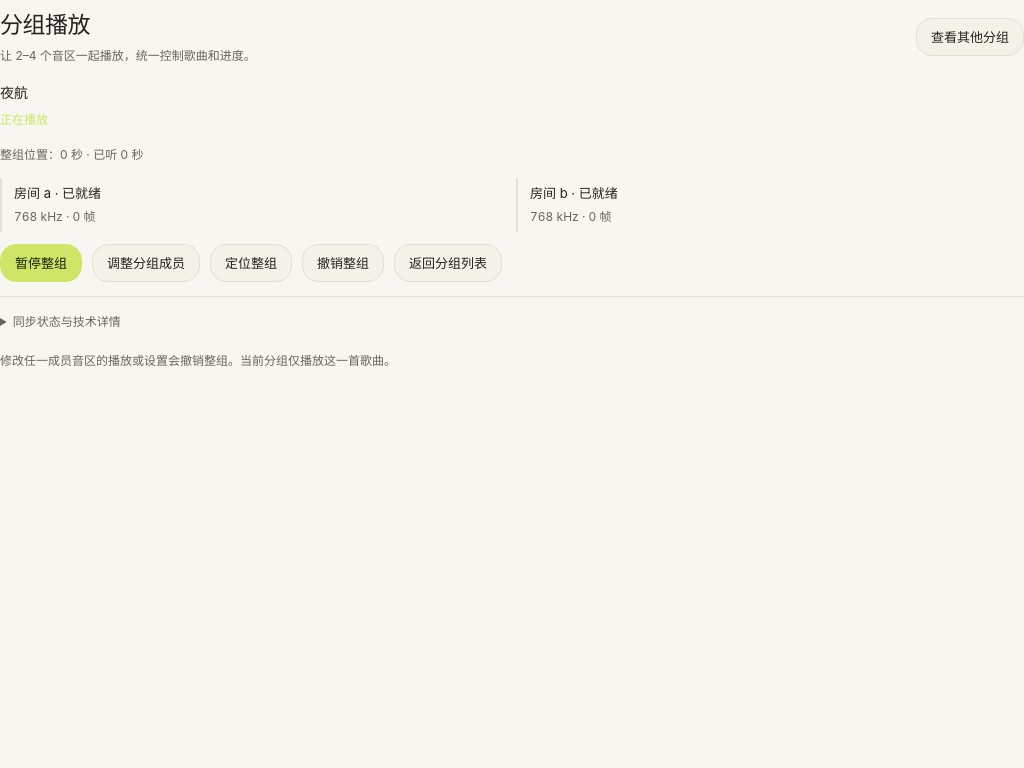
it: 分组播放 › 改组丢失响应后重载只查询，重试保留 UUID 与原成员
Later steps or results of the test are not shown.
Click the button "调整分组成员" at (146, 263), box [92,244,200,282]
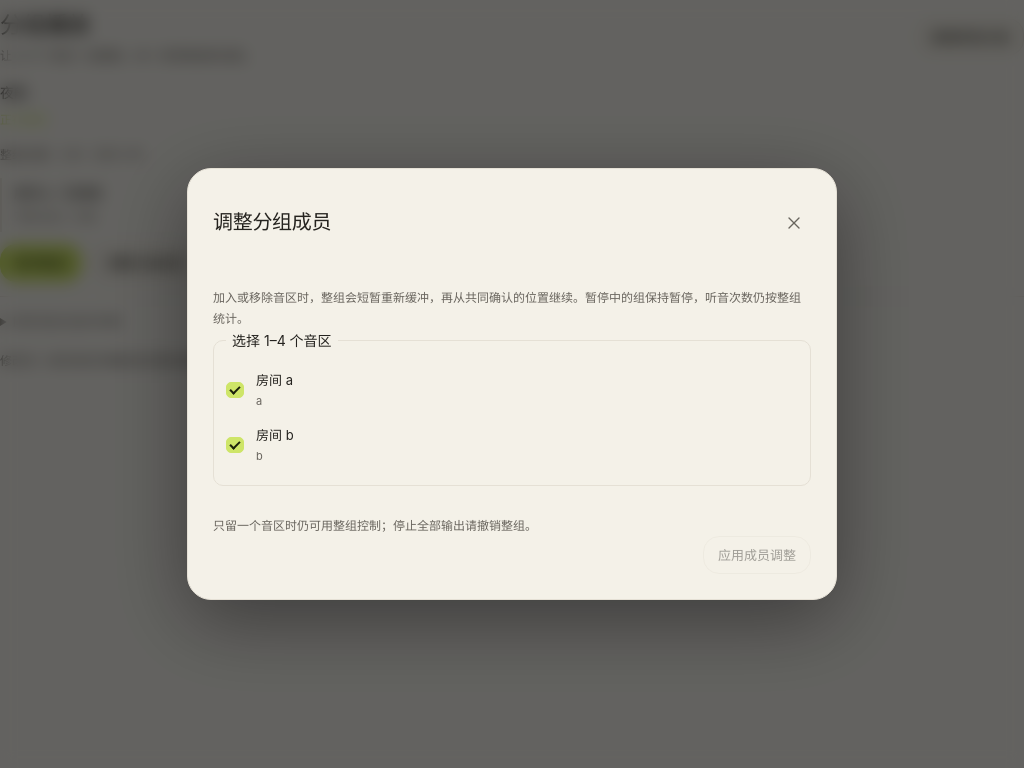
Click the checkbox labelled "房间 b b" at (235, 445), box [226,437,244,453]
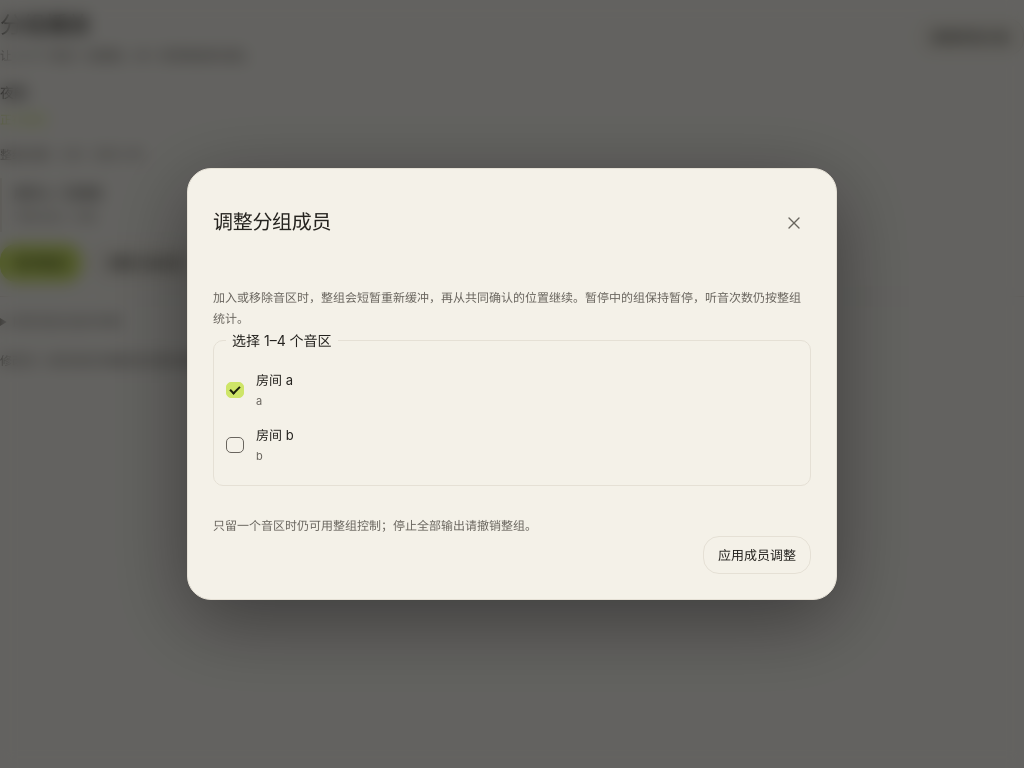
Submit the form, box [213,272,811,574]
Wait 2100 ms
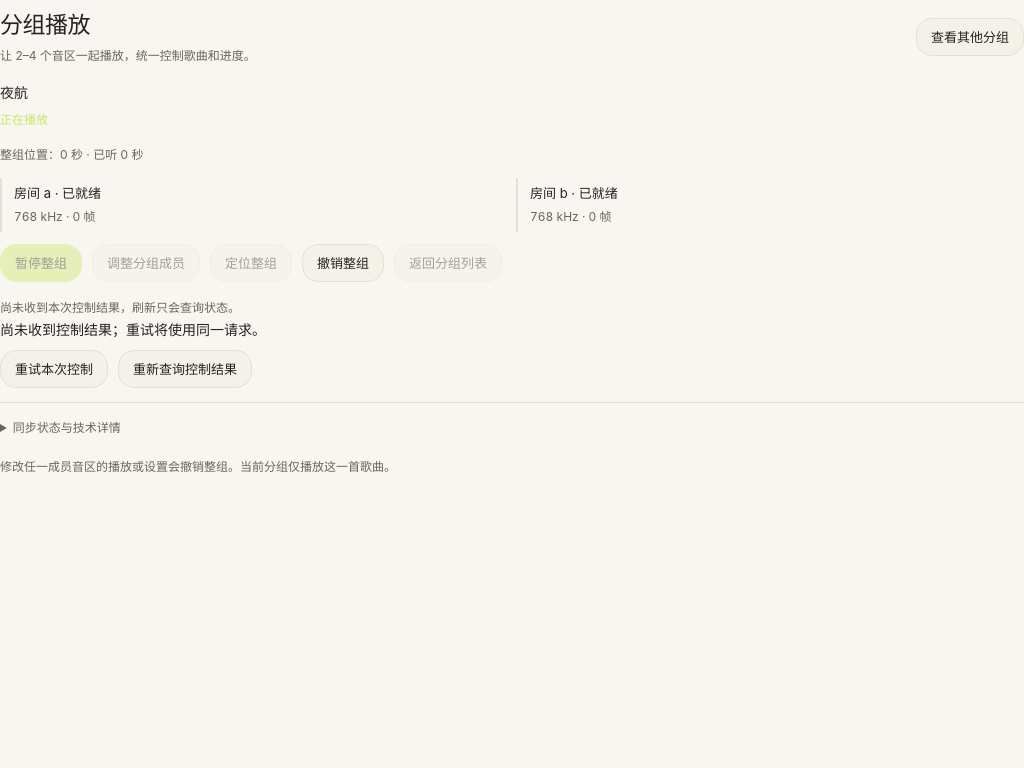
Expected: the button "重试本次控制" is shown, [0,350,108,388]
